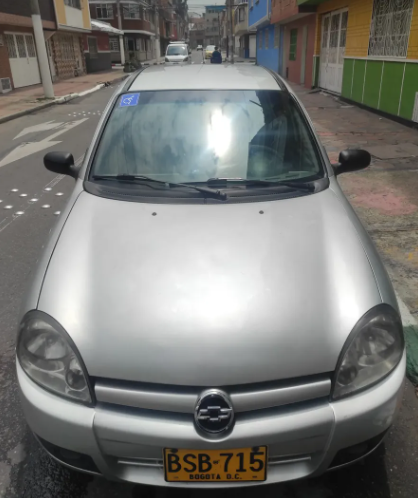placa: (163, 447, 269, 482)
